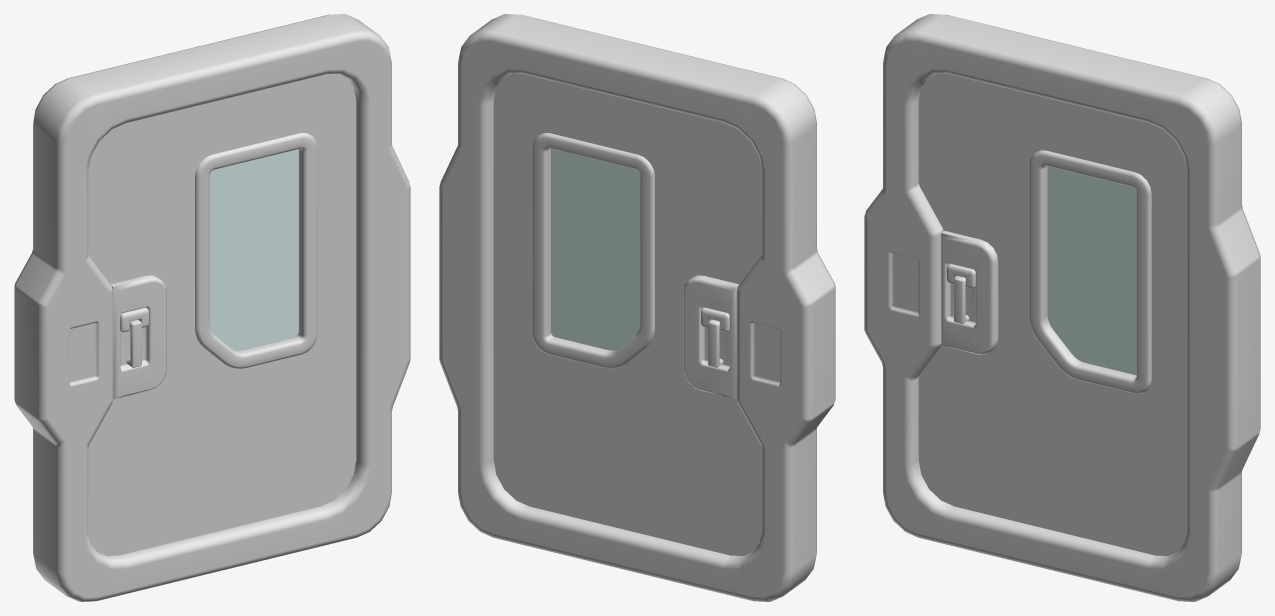
File: SM_Door.fbx
The picture shows the model from 3 angles, left to right: view 1: azimuth 30°, elevation 25°; view 2: azimuth 150°, elevation 25°; view 3: azimuth 330°, elevation 25°; orthographic projection.
Visible parts, largest first — view 1: SM_Door; view 2: SM_Door; view 3: SM_Door.
Boxes of the visible parts, x1,y1,x2,y2 form: SM_Door: [14, 14, 410, 601]; SM_Door: [439, 14, 835, 601]; SM_Door: [864, 14, 1260, 601].
Size of the model in its own units: 104 by 14.76 by 135.
